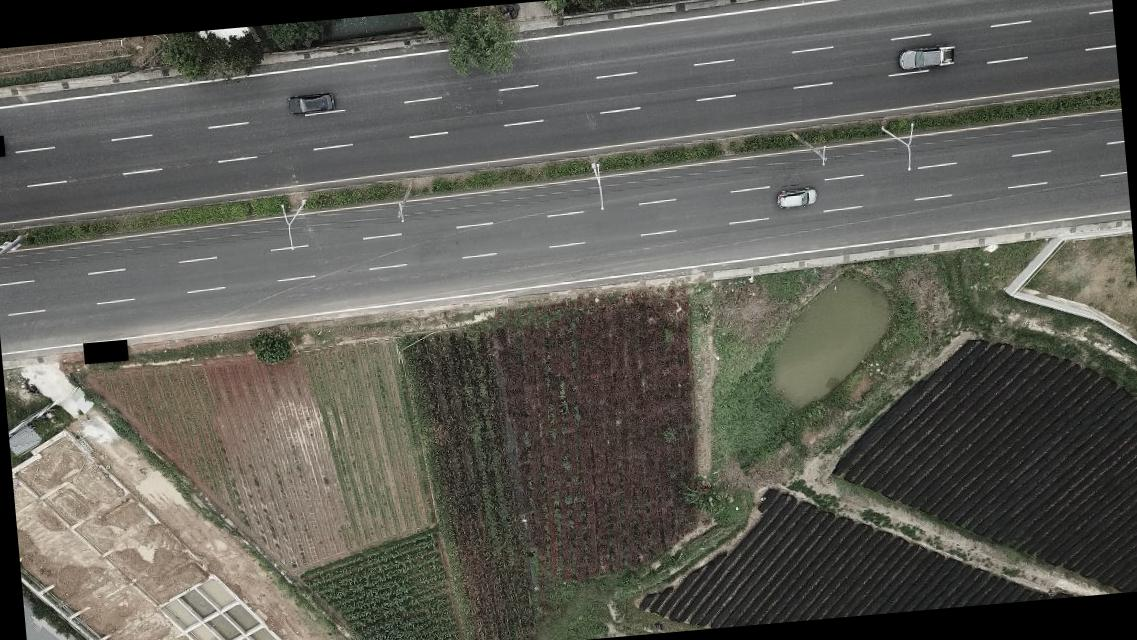vehicle: (894, 44, 957, 72), (282, 91, 336, 117), (774, 184, 818, 212)
